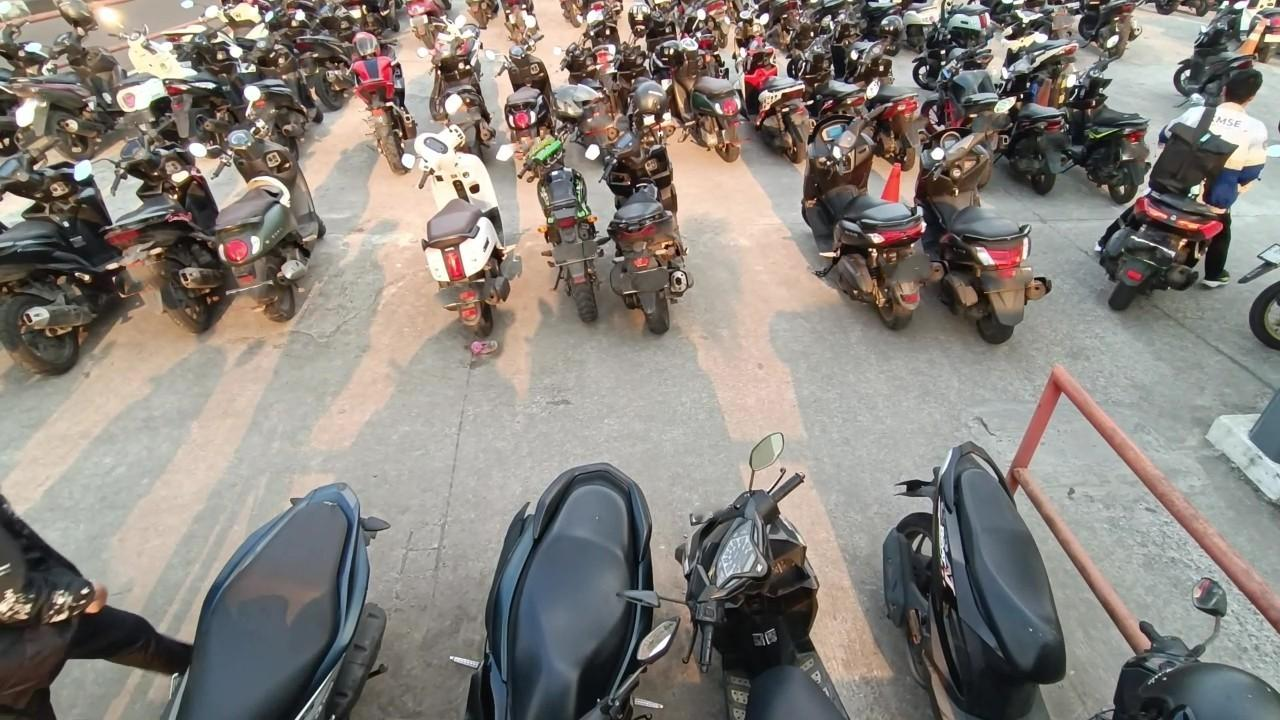motorcycle: (873, 403, 1280, 720), (627, 428, 881, 720), (448, 451, 678, 720), (149, 483, 382, 720), (788, 81, 944, 338), (73, 88, 230, 337), (914, 95, 1048, 348), (190, 87, 334, 321), (0, 124, 124, 377), (588, 80, 699, 335), (405, 95, 514, 339), (500, 84, 609, 326), (1089, 171, 1239, 318), (18, 2, 132, 162), (1068, 36, 1151, 209), (101, 7, 196, 150), (656, 13, 744, 162), (738, 13, 825, 162), (236, 12, 323, 151), (164, 6, 246, 152), (338, 33, 420, 177), (418, 17, 500, 157), (485, 16, 560, 168), (1003, 34, 1072, 196), (550, 10, 622, 164), (1176, 1, 1266, 117), (0, 0, 56, 156), (298, 0, 363, 109), (609, 6, 658, 122)
